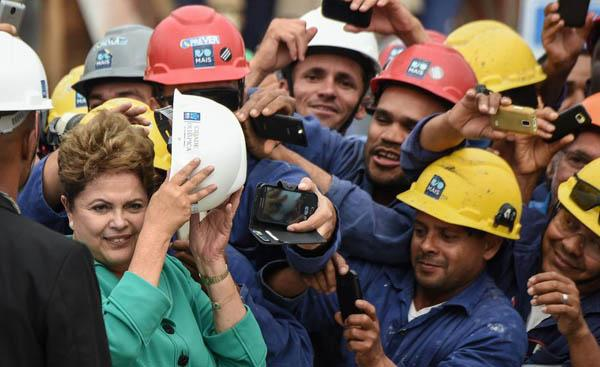helmet: (402, 147, 526, 243), (172, 94, 243, 213), (145, 8, 250, 84), (373, 43, 481, 110), (443, 19, 541, 92), (289, 8, 381, 73), (70, 24, 163, 88), (1, 28, 52, 112)
